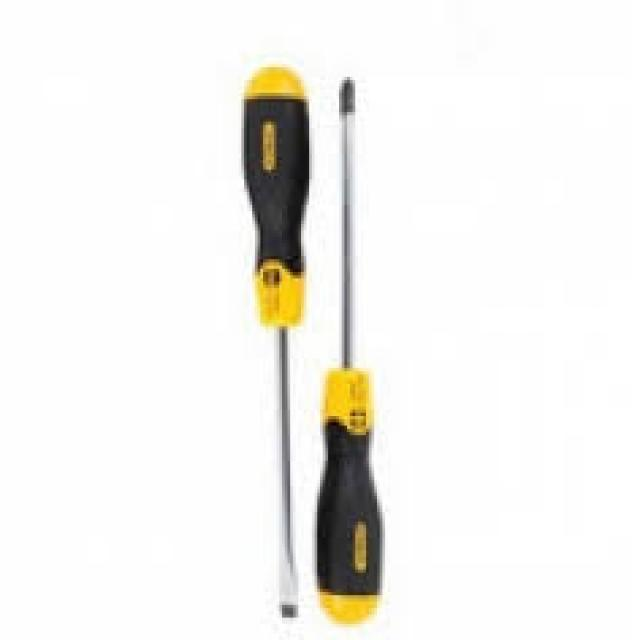screwdriver: (312, 60, 388, 628), (234, 61, 310, 624)
